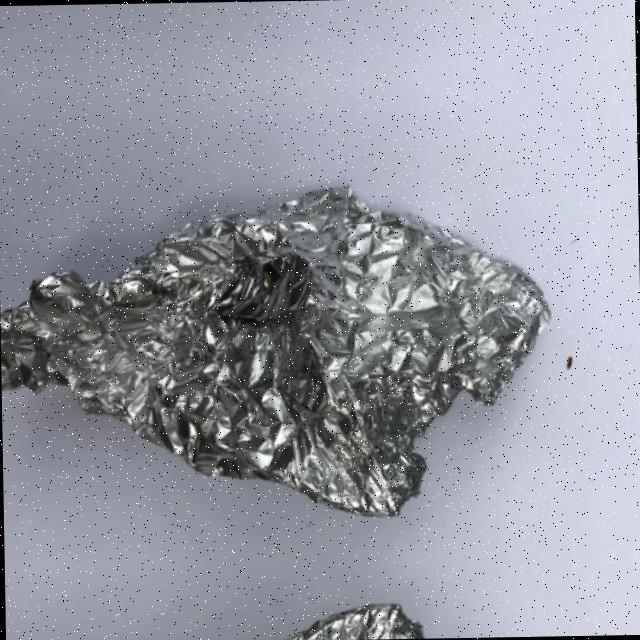Metal: (0, 161, 597, 533), (4, 588, 599, 640)
